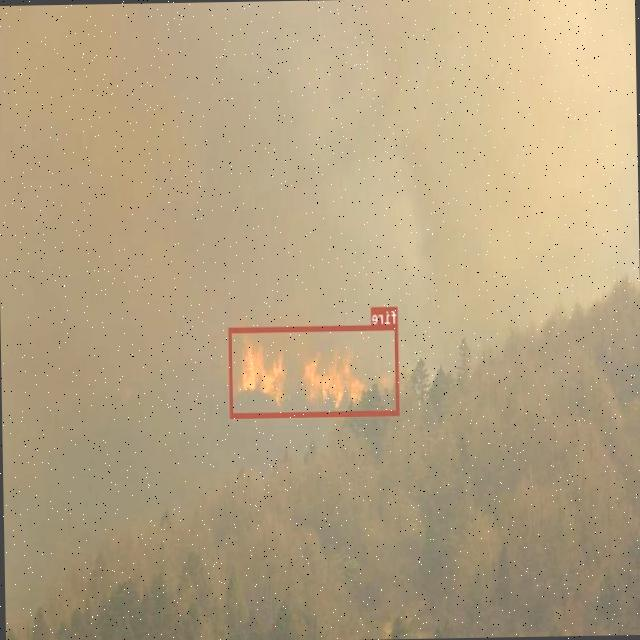fire: (228, 324, 400, 416)
